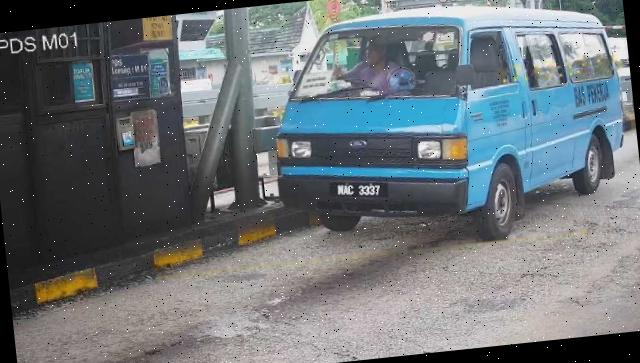License_Plate: (328, 176, 391, 208)
van: (262, 1, 635, 262)
